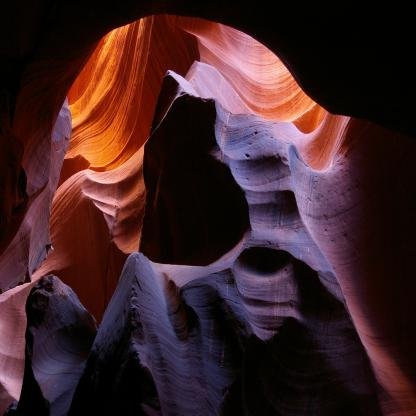Sedimentary_Sandstone: (134, 58, 304, 254), (199, 236, 384, 416), (0, 0, 96, 278), (103, 248, 190, 416), (21, 280, 105, 415)
